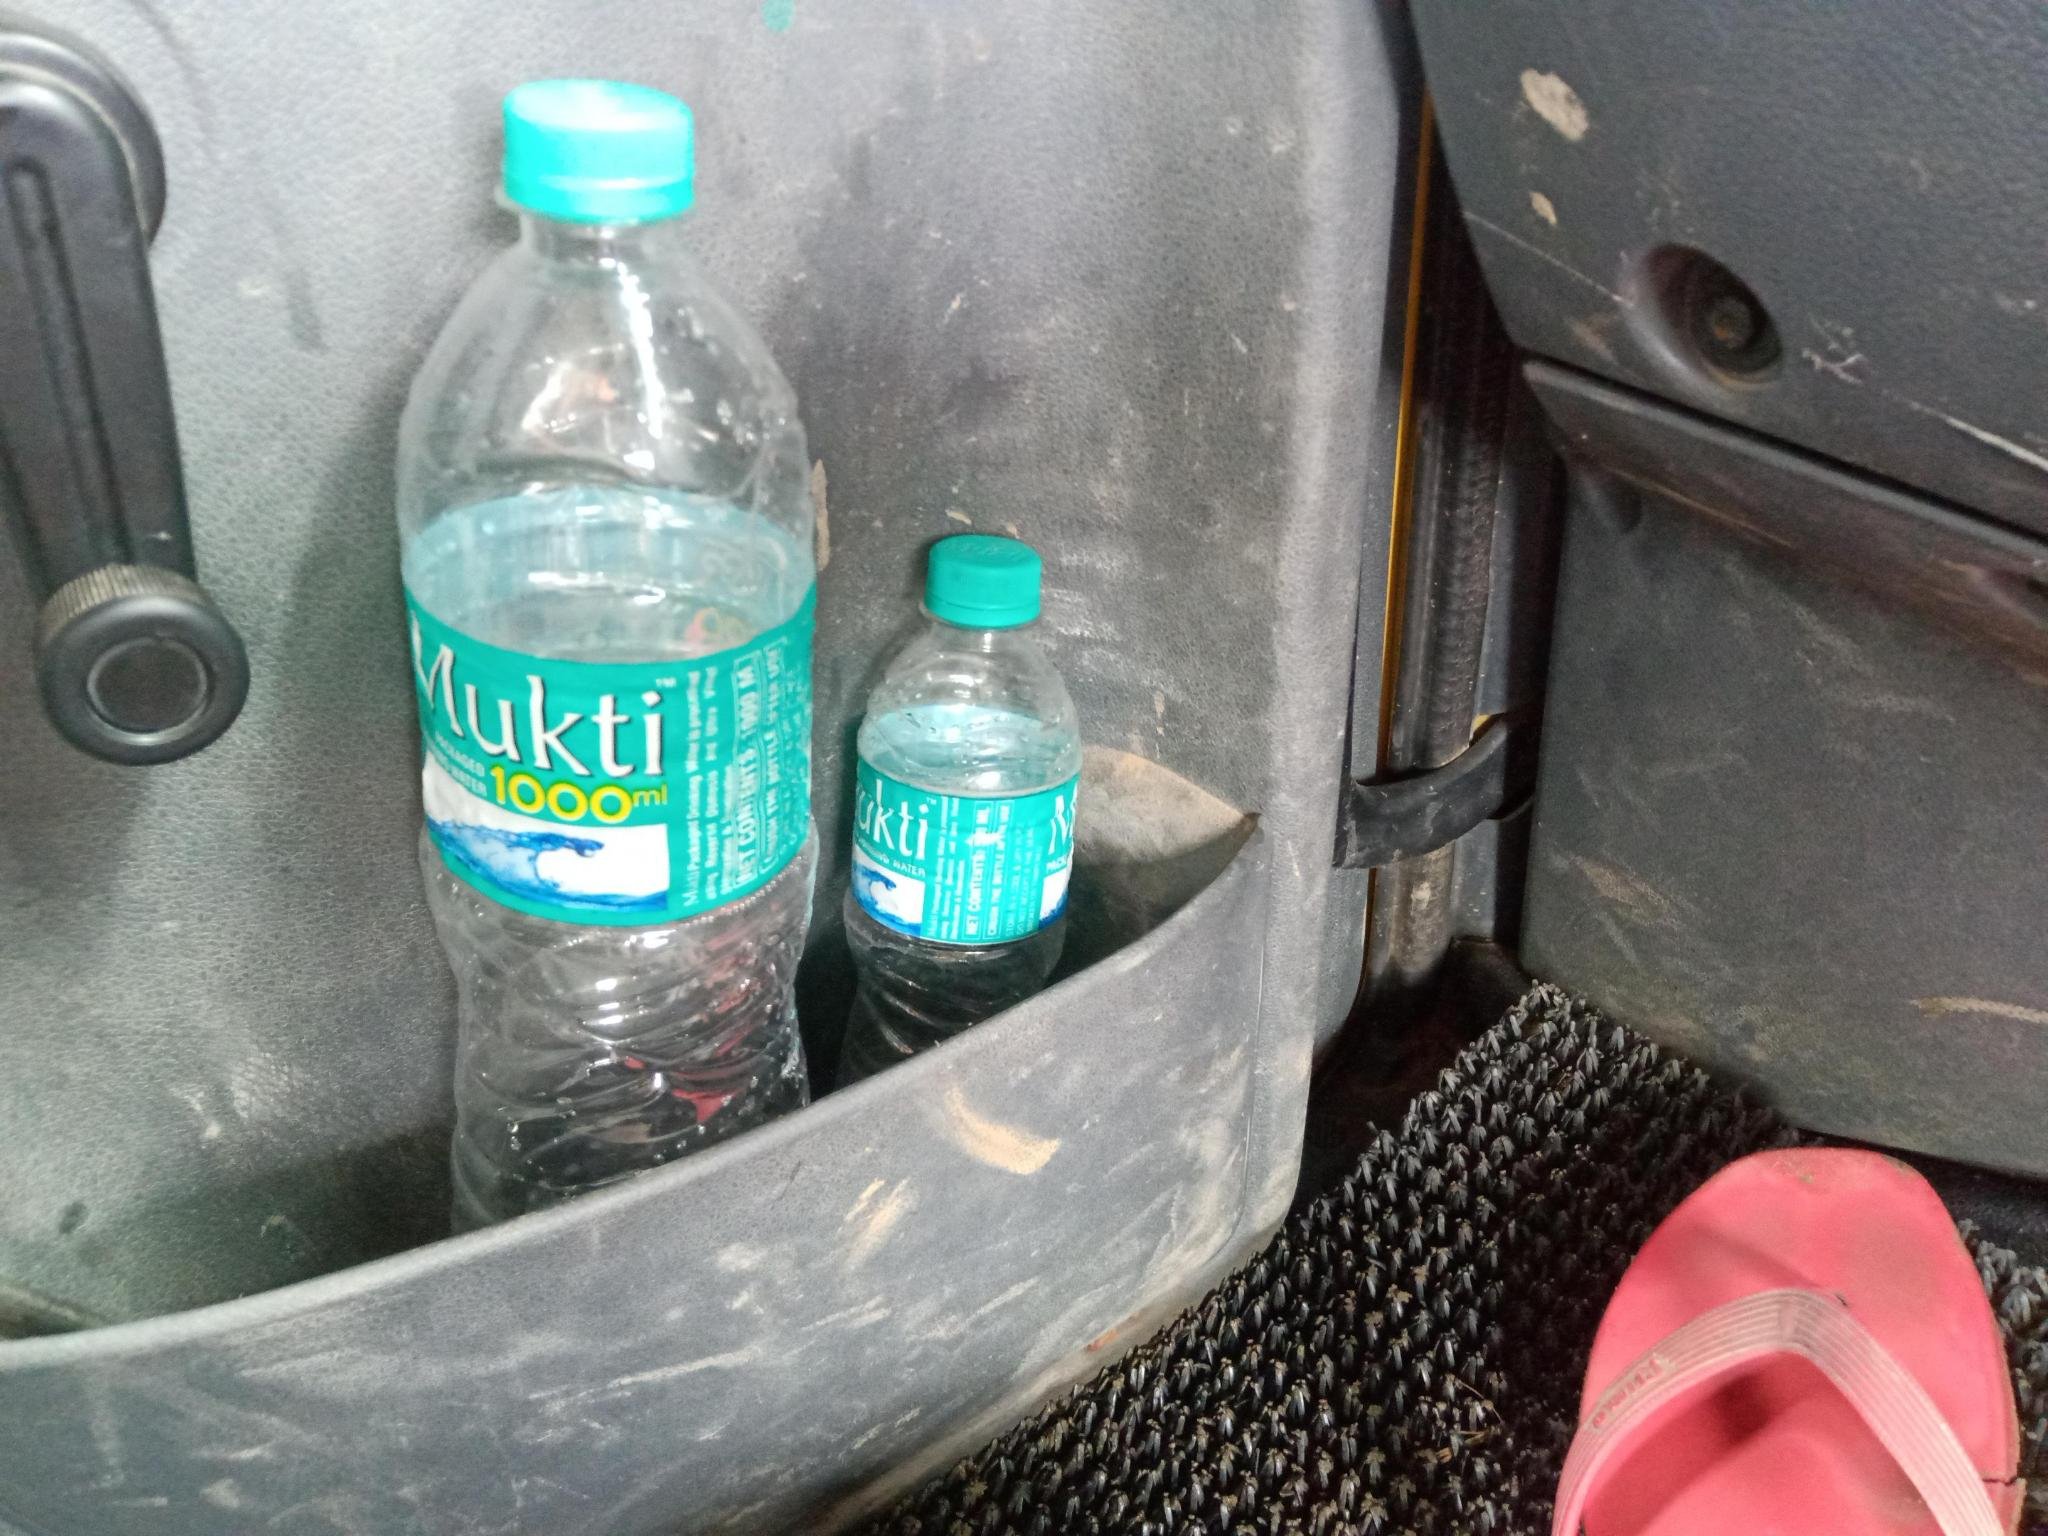bottle: (400, 76, 832, 1234), (835, 536, 1097, 1065)
